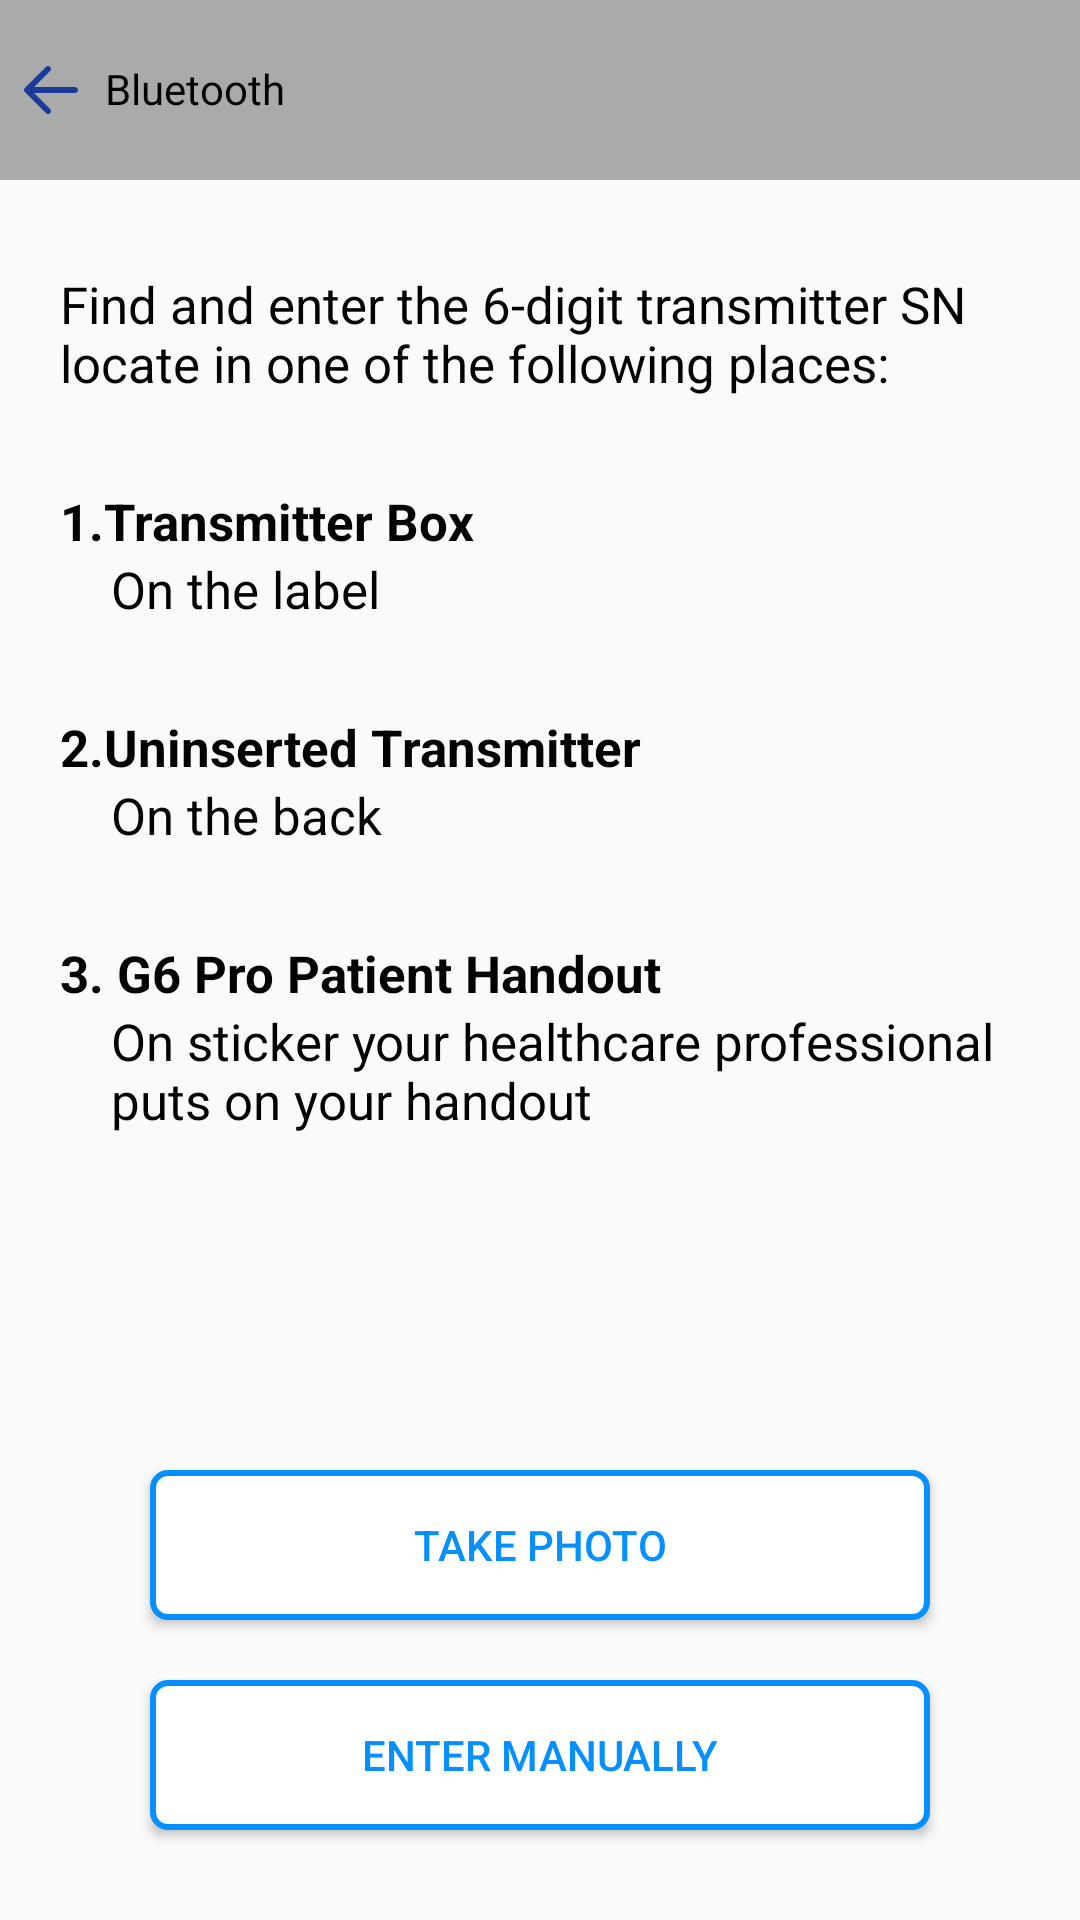

Icon click points for this 1080 x 1920 phone screenshot, format (x,y):
left: (51,90)
